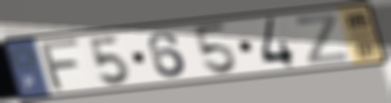4: (257, 15, 299, 71)
5: (190, 22, 241, 76), (86, 34, 132, 87)
6: (146, 31, 188, 79)
F: (39, 37, 85, 94)
Z: (293, 12, 350, 66)
